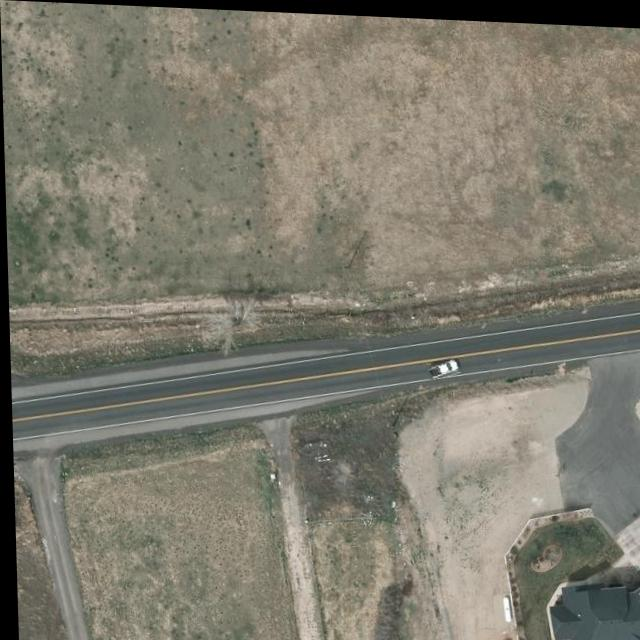vehicle: (424, 356, 458, 376)
